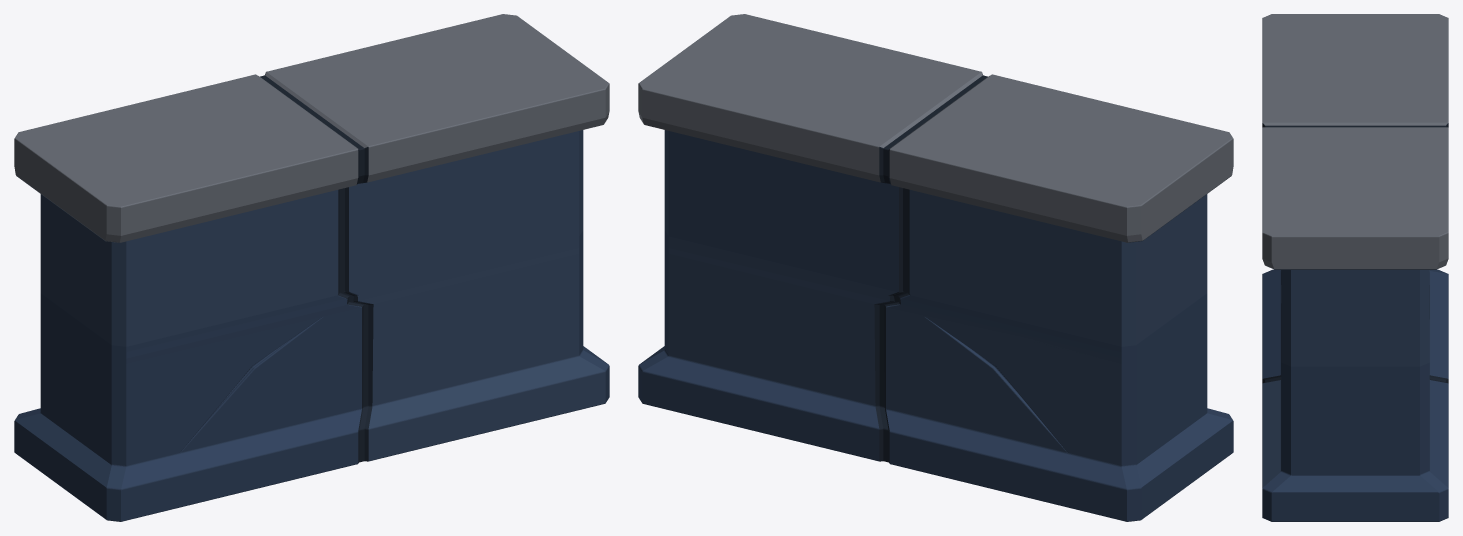
Rendered from short.glb.
3 views of the same model, side by side, from view 1: azimuth 30°, elevation 25°; view 2: azimuth 150°, elevation 25°; view 3: azimuth 270°, elevation 25° (orthographic). The views are drawn at different scales.
Visible parts, largest first — view 1: Framing | short masonry section; view 2: Framing | short masonry section; view 3: Framing | short masonry section.
Boxes of the visible parts, x1,y1,x2,y2 form: Framing | short masonry section: (14,14,609,521); Framing | short masonry section: (638,14,1233,521); Framing | short masonry section: (1262,14,1448,521).
Bounding box in the file's own units: 1.92 × 1.15 × 0.68.
